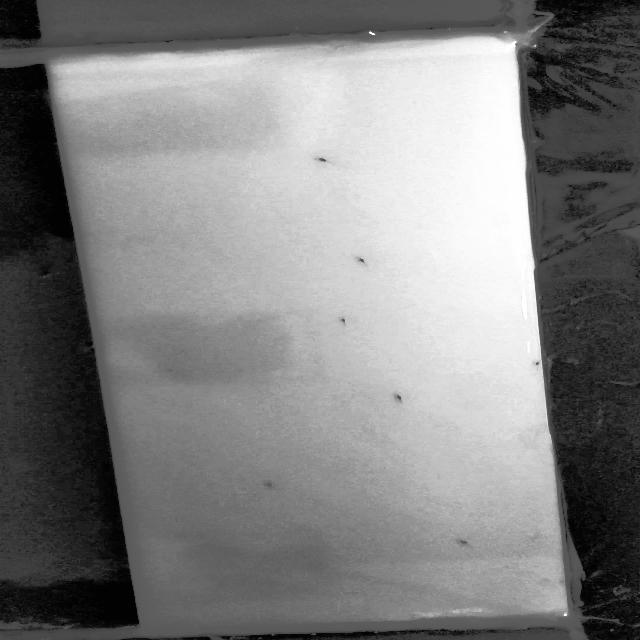shrimp: (439, 527, 481, 553), (375, 387, 420, 410), (323, 308, 357, 333), (348, 250, 382, 273), (302, 151, 337, 168), (259, 481, 280, 488)
